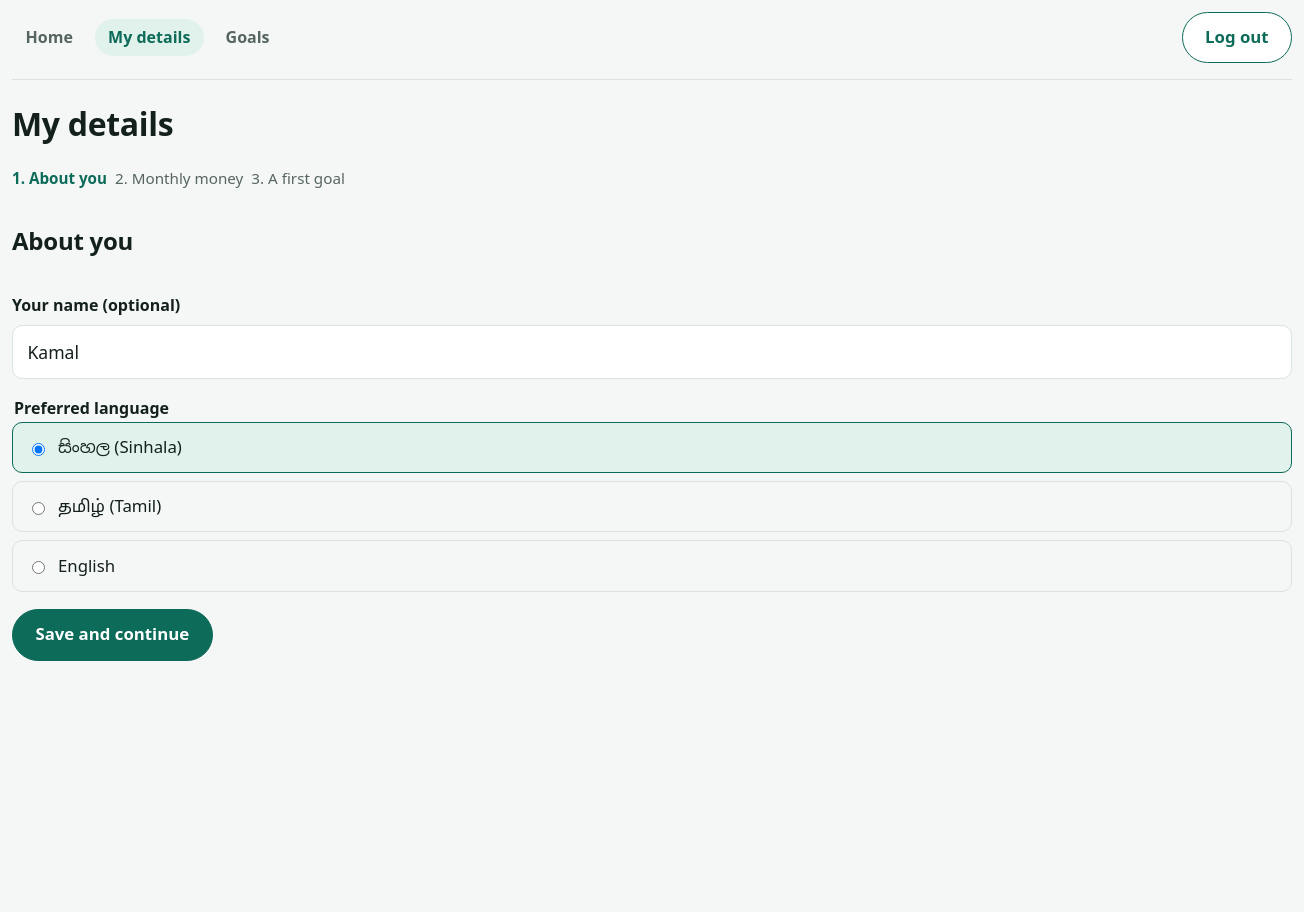
Test: /onboarding › saves the name and language through PATCH /me and reloads the identity
Replace the text in the field labelled "Your name (optional)" with "Kamala": (652, 352) [12,325,1292,379]
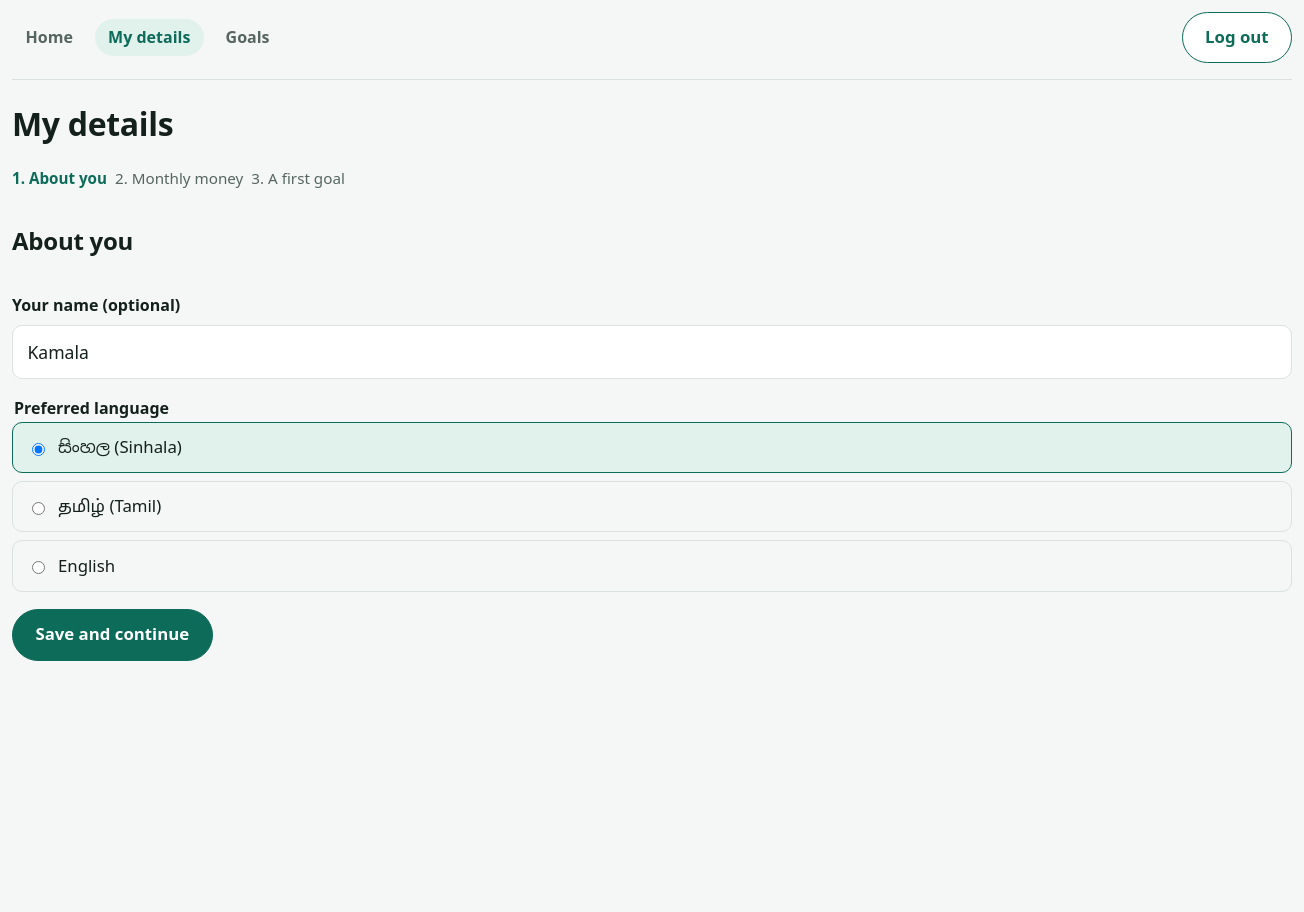
Click the radio button labelled "தமிழ் (Tamil)": click(39, 508) [32,502,45,515]
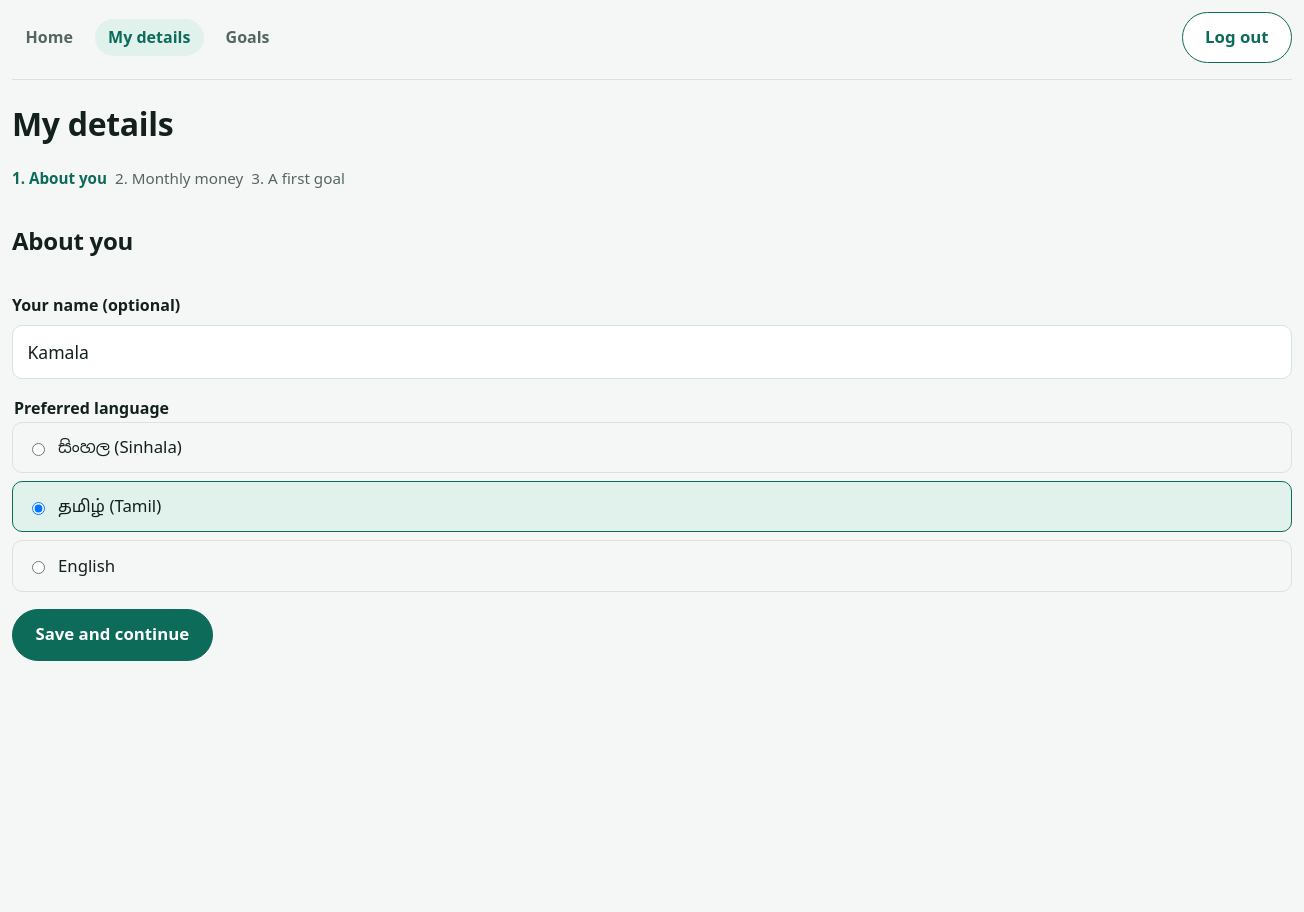
Click the button "Save and continue": click(112, 635) [12,609,213,661]
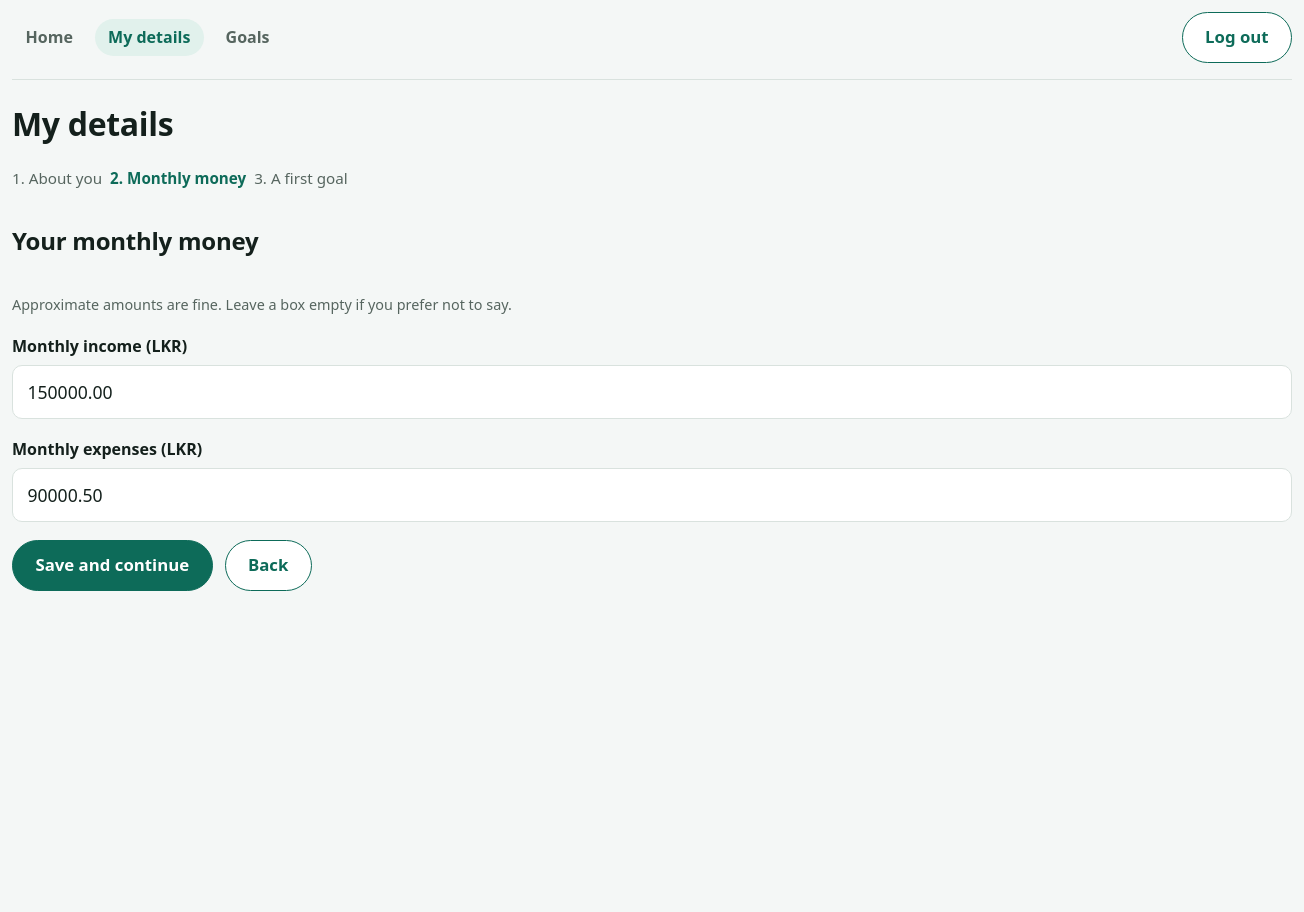
Expected: the heading "Your monthly money" is shown, [12,224,258,257]
